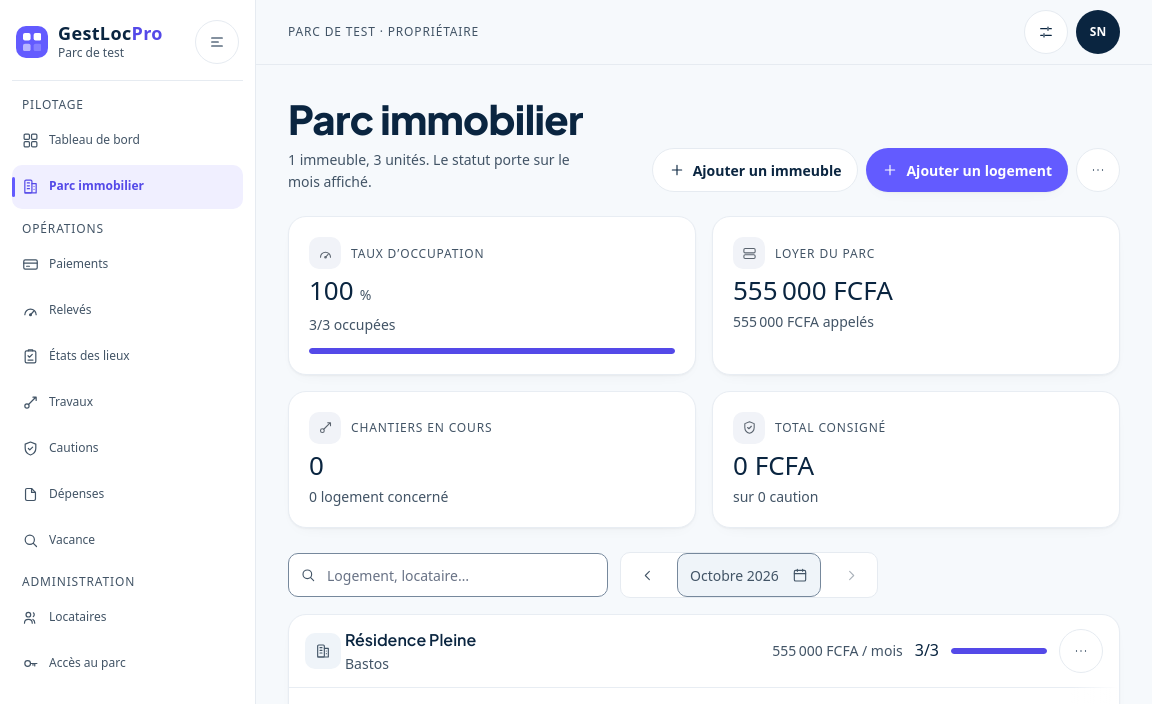
Scenario: le sous-titre du parc compte ce que l’écran montre › nomme la PART du parc que le mois affiché porte
What coordinates should you click on to do the following:
click the button named "Mois précédent"
I would click on:
 (647, 575)
Its box is [625,553,669,597].
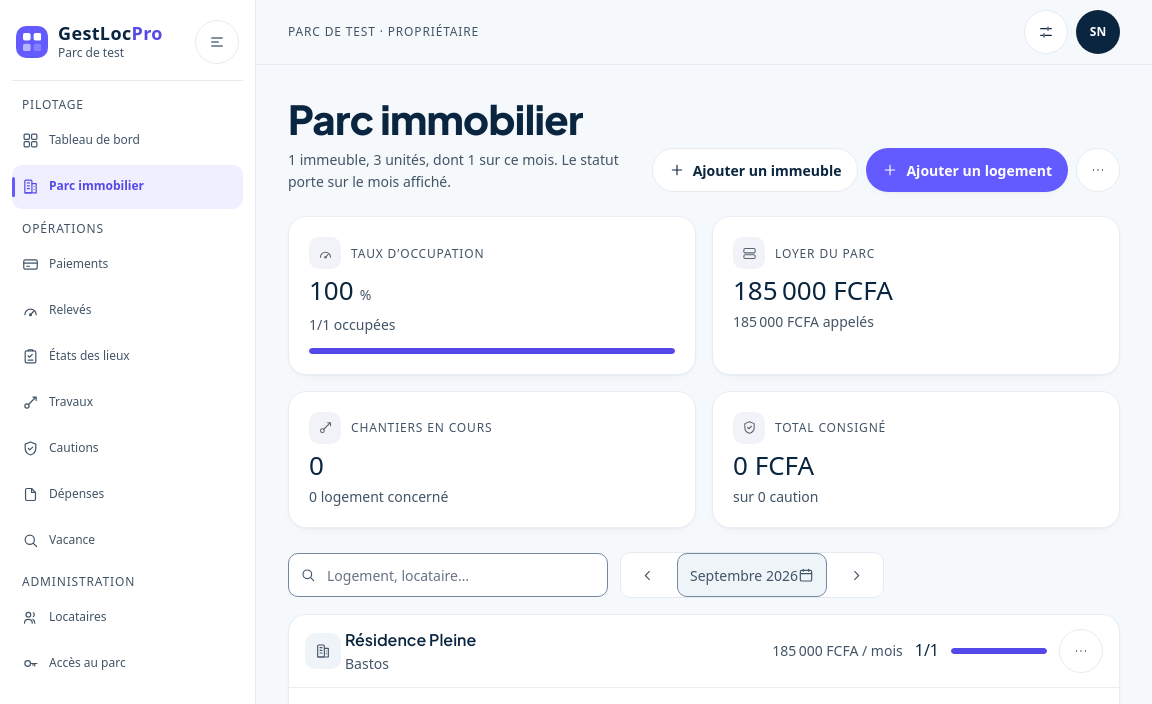
Expected: the text "Le statut porte sur le mois affiché" shows "3 unités", [288,150,619,191]
Expected: the text "Le statut porte sur le mois affiché" shows "1 sur ce mois", [288,150,619,191]
